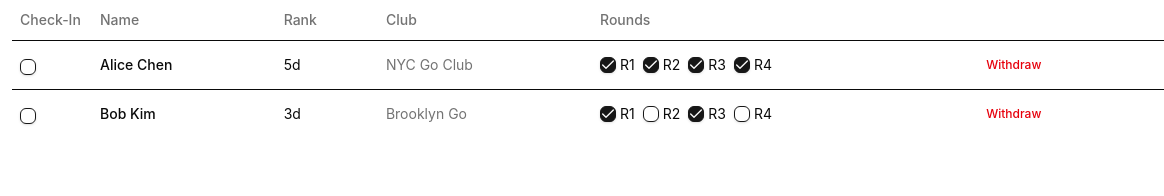
Scenario: RegistrationTable › withdraw button hides player and shows pending withdrawal message
The image size is (1164, 196).
Click the button "Withdraw" in the row of "Alice Chen": (1014, 64) [974,48,1053,80]
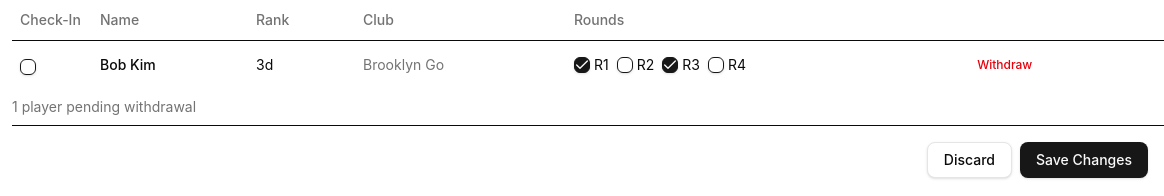
Check: the text "Alice Chen" is gone
Check: the text "1 player pending withdrawal" is shown, box [12,98,196,114]
Check: the button "Save Changes" is shown, box [1020,142,1148,178]
